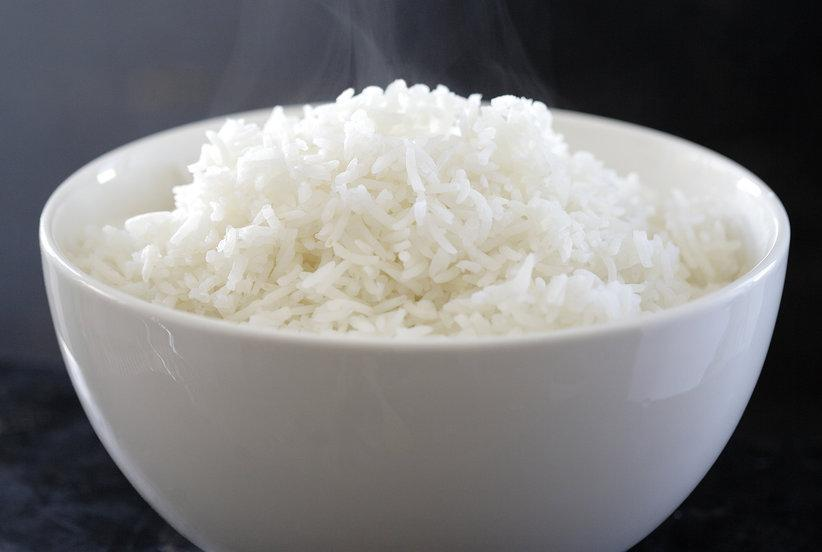rice: (68, 82, 752, 340)
